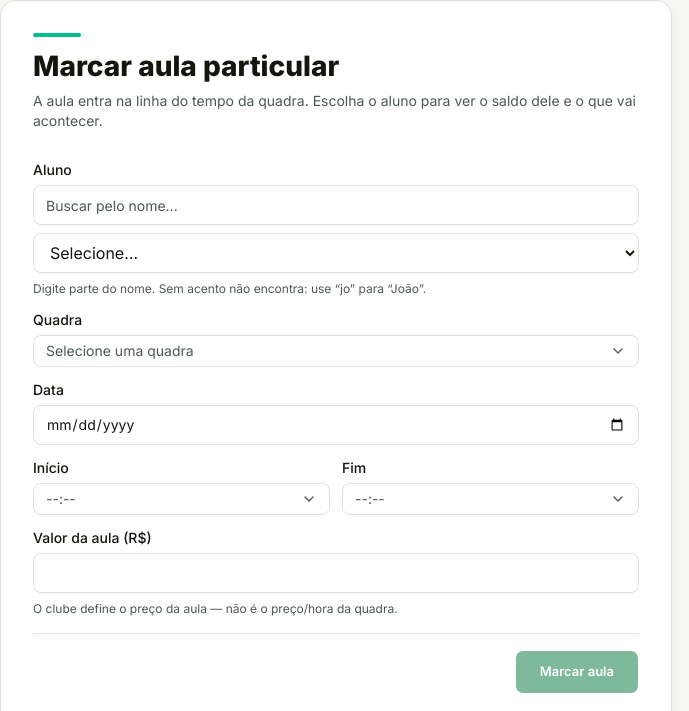
MarcarAulaParticular › avisa a janela do professor no dia escolhido -- ANTES de enviar
Select "Ana" in the dropdown labelled "Aluno" at (336, 253), box [33, 233, 639, 273]
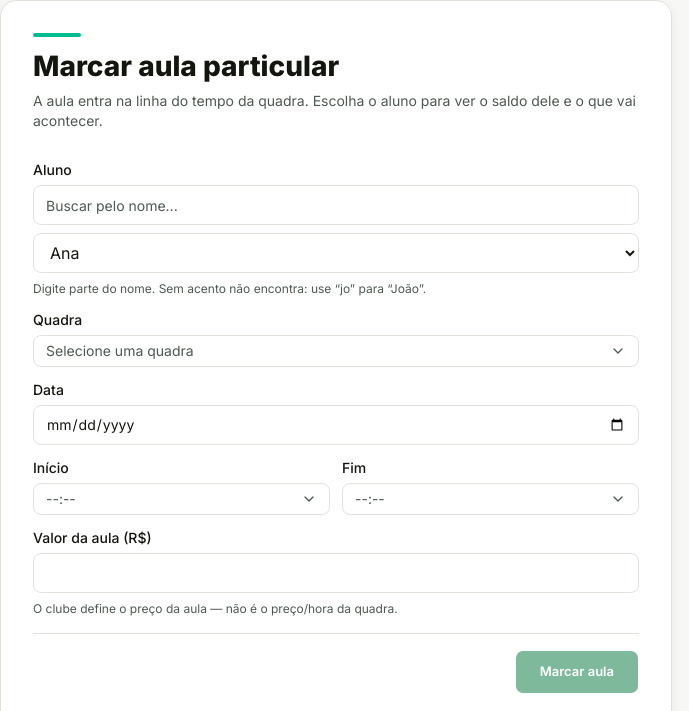
Click the dropdown labelled "quadra".
click(120, 350)  # box [33, 335, 639, 367]
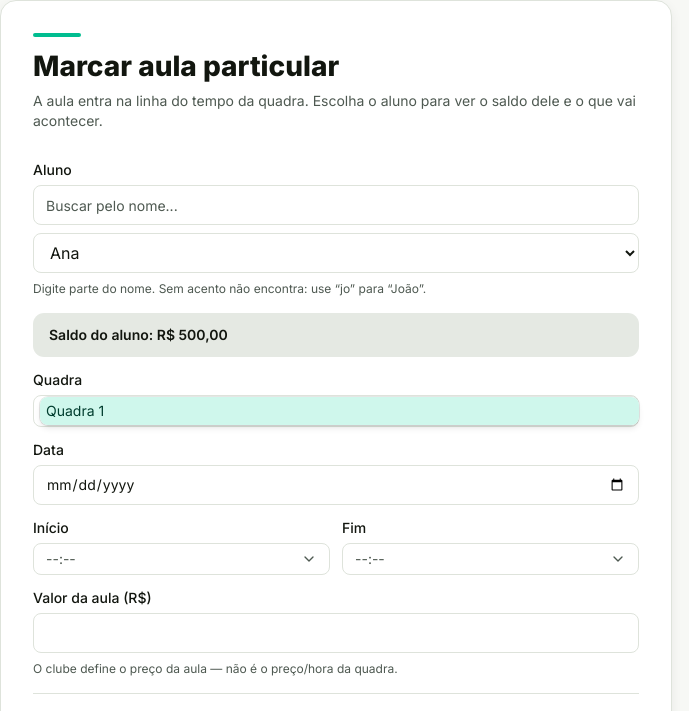
Click the option "Quadra 1".
click(75, 410)  # box [40, 397, 639, 425]
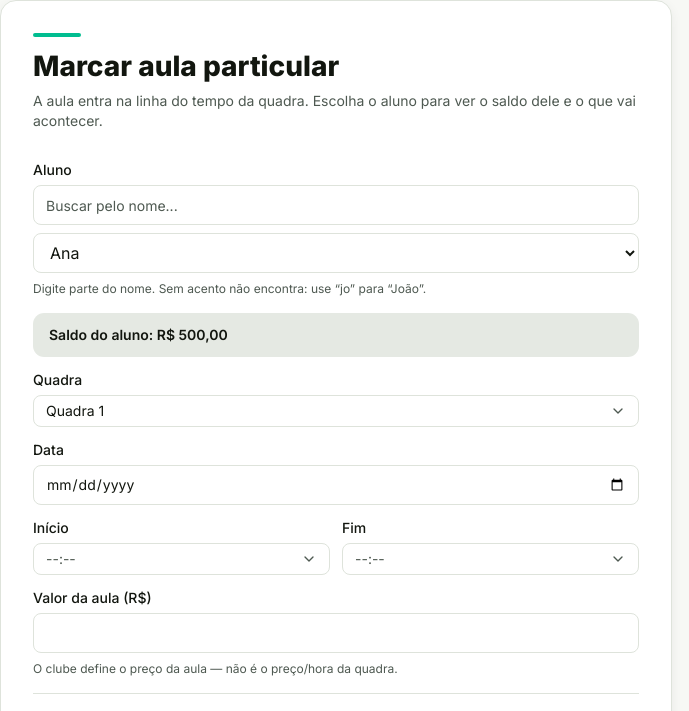
Type "2035-06-07" into the date field labelled "Data".
click(336, 485); type("2035-06-07")  # box [33, 465, 639, 505]
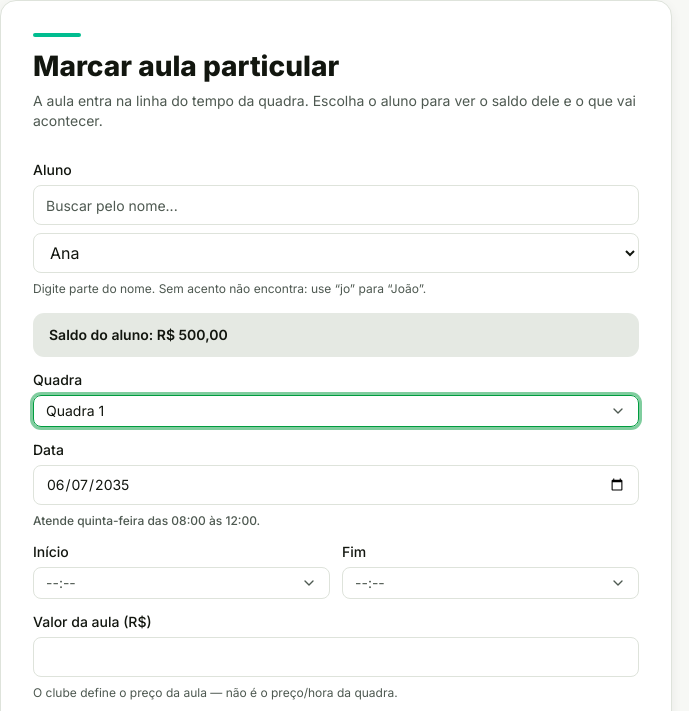
Result: the text "Atende quinta-feira das 08:00 às 12:00." is shown at [33, 513, 260, 528]
